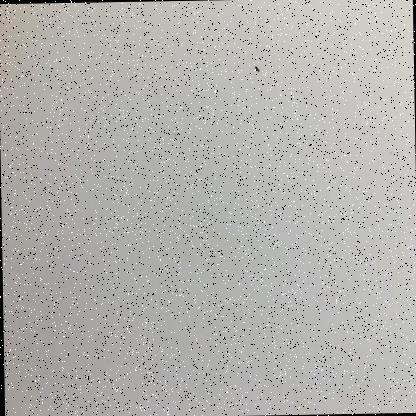Nocrack: (18, 17, 398, 397)
